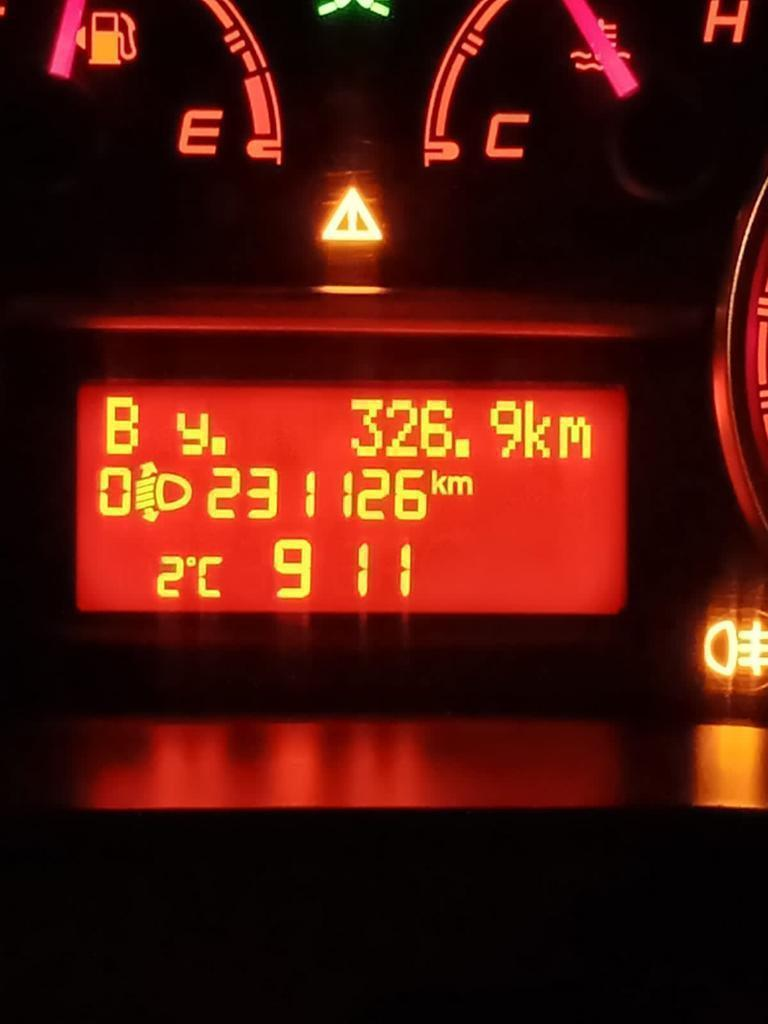,: (452, 437, 472, 459), (209, 434, 228, 457)
0: (96, 464, 133, 517)
1: (355, 541, 371, 599), (397, 542, 413, 599), (302, 469, 318, 519), (340, 469, 355, 519)
2: (384, 397, 419, 459), (205, 465, 243, 520), (356, 467, 391, 520), (154, 554, 185, 600)
3: (347, 396, 384, 459), (245, 466, 280, 521)
6: (419, 398, 454, 460)
9: (271, 538, 313, 599), (488, 399, 524, 461)
X: (104, 394, 141, 456), (523, 399, 553, 461), (557, 414, 594, 460), (173, 410, 210, 456), (196, 555, 226, 598), (447, 474, 473, 496), (430, 468, 448, 495)
odometer: (67, 372, 636, 622)
